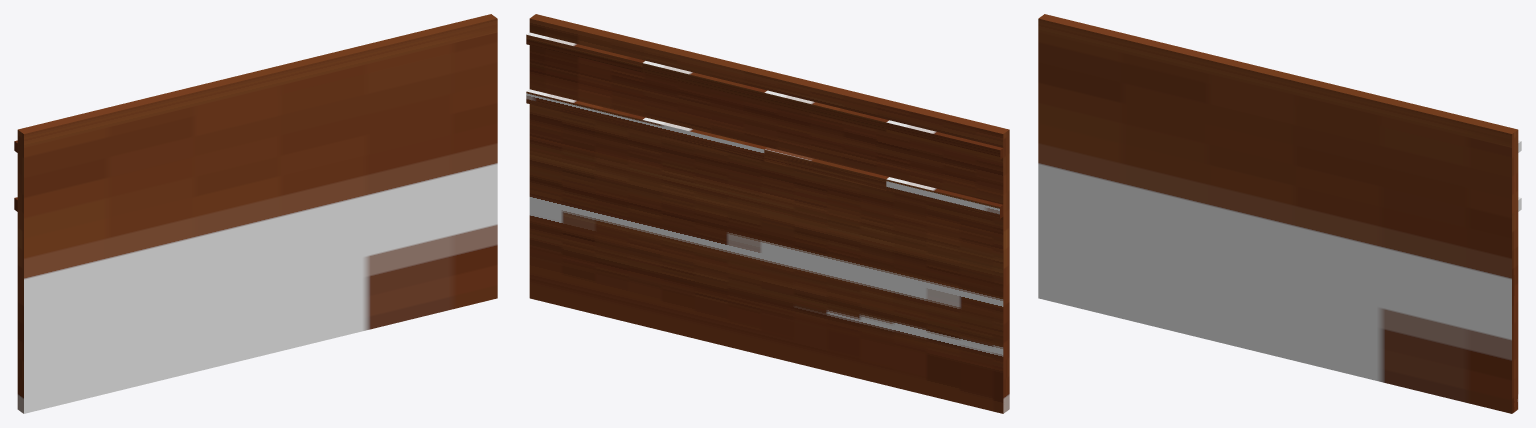
The model's file is Kaidan_wall_middle.fbx.
The picture shows the model from 3 angles, left to right: view 1: azimuth 30°, elevation 25°; view 2: azimuth 150°, elevation 25°; view 3: azimuth 330°, elevation 25°; orthographic projection.
Visible parts, largest first — view 1: 立方体.022; view 2: 立方体.022; view 3: 立方体.022.
Part boxes in pixels (<box>): 立方体.022: <box>14,14,497,413</box>; 立方体.022: <box>526,14,1009,413</box>; 立方体.022: <box>1038,14,1521,413</box>.
Bounding box in the file's own units: 746 × 421 × 25.7.
